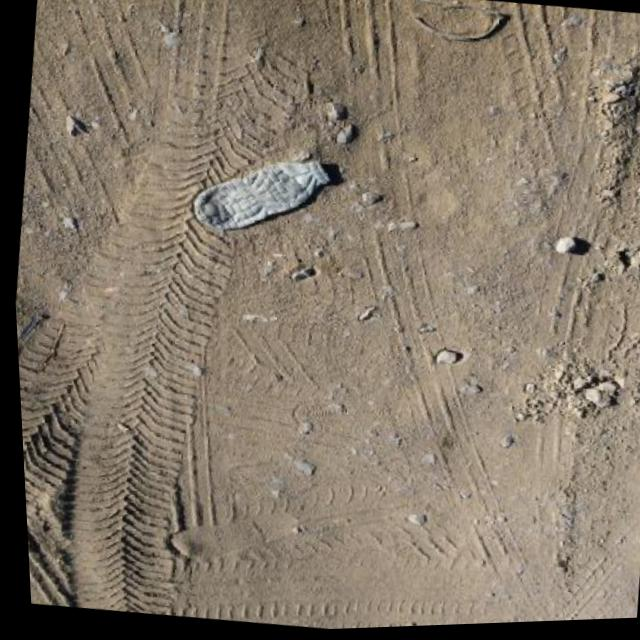plastic: (187, 144, 336, 245)
